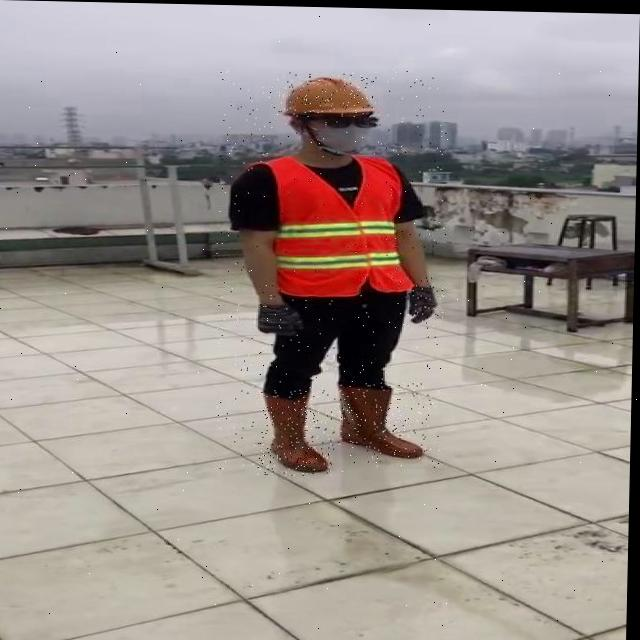Gloves: (258, 301, 306, 334), (409, 281, 438, 322)
Helmet: (283, 74, 375, 117)
Safety-Boot: (338, 381, 426, 457), (263, 385, 332, 471)
Safety-Vest: (246, 148, 421, 299)
